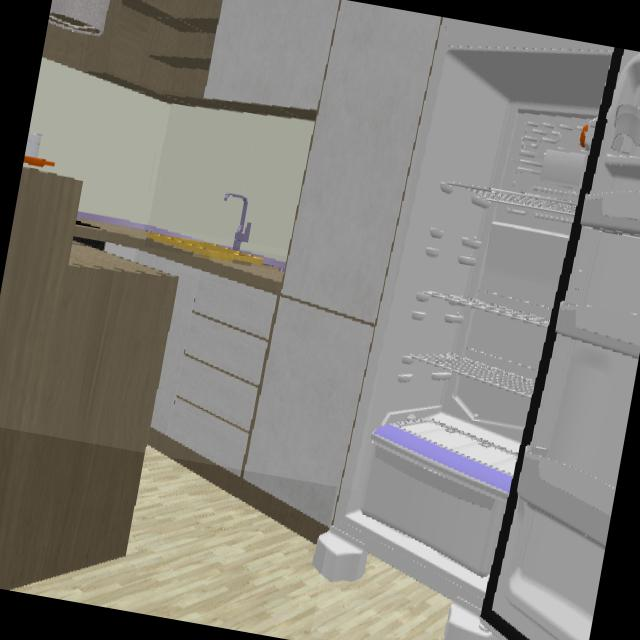cabinet: (0, 0, 441, 487)
countertop: (74, 213, 284, 288)
fridge: (328, 16, 640, 640)
sink: (146, 233, 285, 270)
